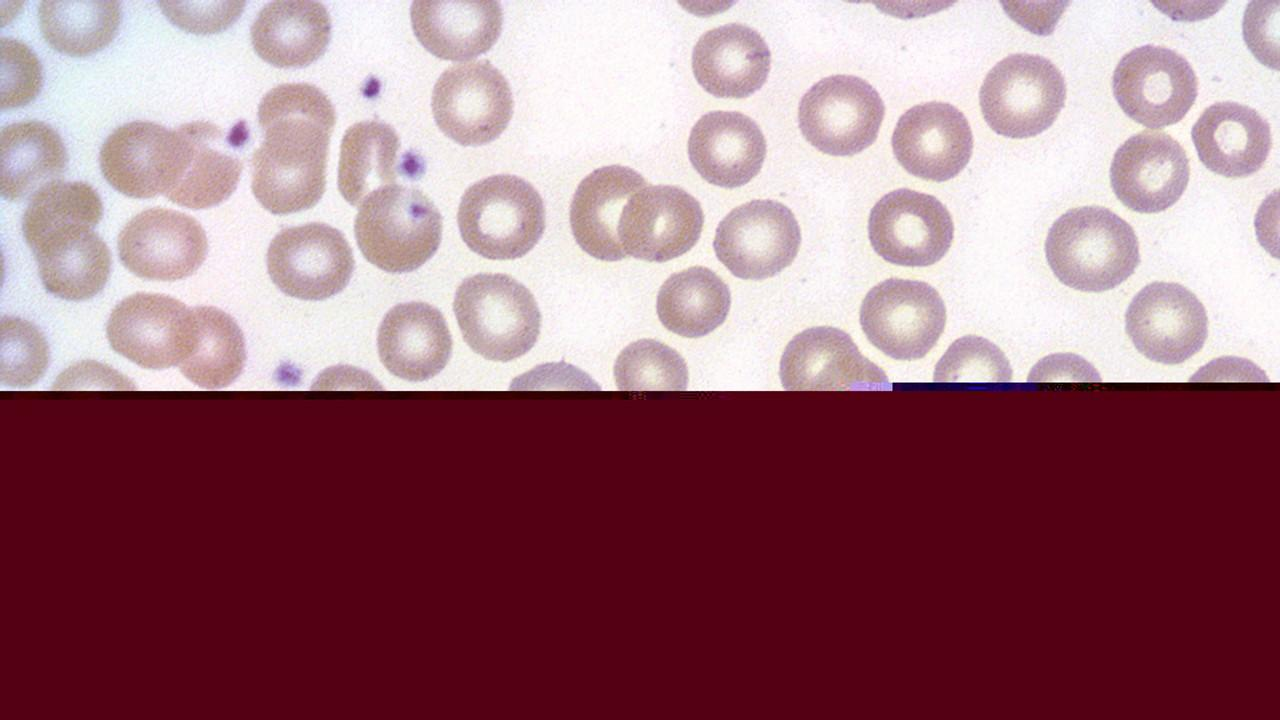Platelets: (267, 353, 309, 390), (396, 145, 430, 184), (222, 113, 254, 153), (356, 70, 386, 104)
RBC: (1038, 201, 1144, 296), (448, 266, 549, 364), (450, 167, 552, 264), (974, 45, 1071, 144), (852, 270, 952, 364), (351, 180, 446, 277), (426, 54, 519, 153), (563, 160, 650, 265), (792, 68, 890, 160), (94, 113, 194, 201), (707, 195, 807, 283), (1120, 274, 1214, 367), (1106, 39, 1202, 130), (260, 218, 358, 304), (887, 94, 977, 187), (101, 289, 203, 371), (861, 183, 958, 269), (1103, 126, 1193, 217), (686, 17, 778, 105), (616, 177, 706, 266), (113, 205, 214, 284), (247, 122, 330, 217), (371, 293, 456, 385), (684, 103, 771, 191), (1188, 96, 1276, 181), (18, 174, 107, 254), (173, 298, 252, 388), (254, 76, 338, 160), (652, 260, 734, 342), (33, 223, 115, 304), (334, 112, 401, 210), (247, 1, 336, 74), (402, 3, 510, 63), (0, 115, 72, 202), (773, 320, 864, 388), (34, 1, 127, 62), (607, 332, 694, 390), (0, 307, 55, 386), (149, 0, 251, 40), (0, 32, 47, 113), (990, 0, 1080, 39), (1235, 1, 1279, 78), (1248, 176, 1280, 269), (856, 0, 972, 25), (1136, 0, 1242, 27), (656, 0, 748, 22), (0, 216, 18, 316), (0, 0, 31, 38)
